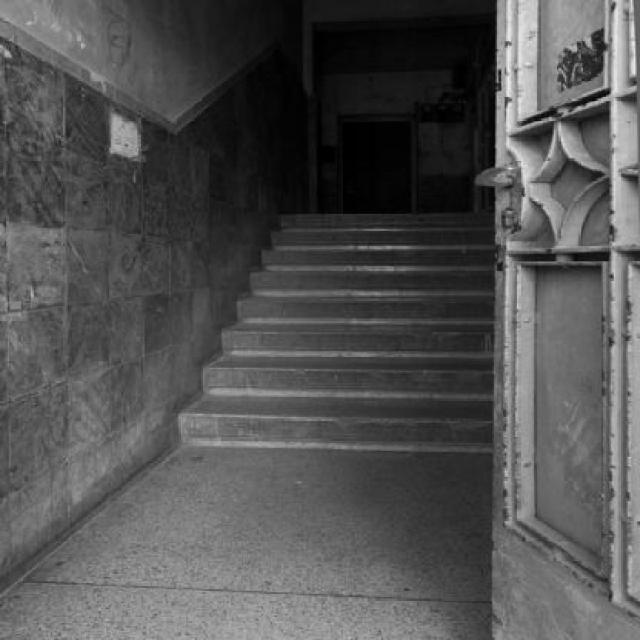stair: (177, 209, 498, 454)
